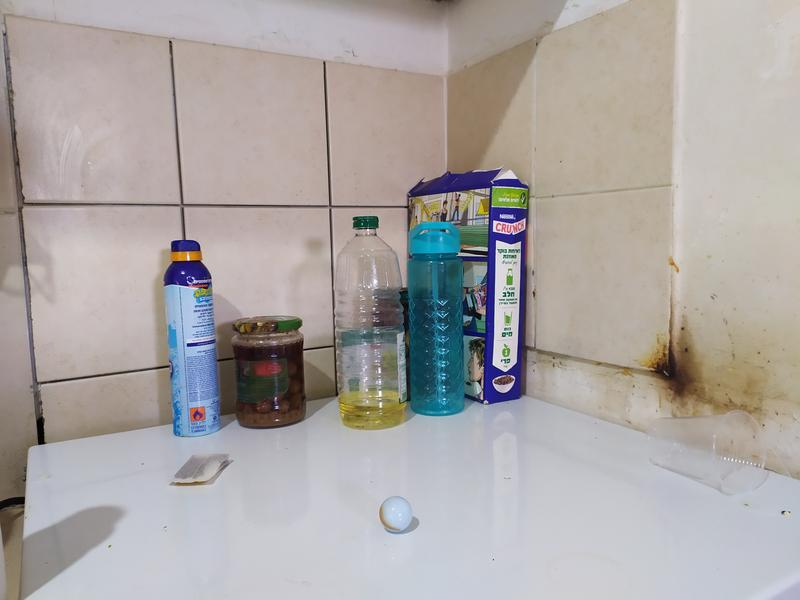Warning: (378, 494, 415, 535)
